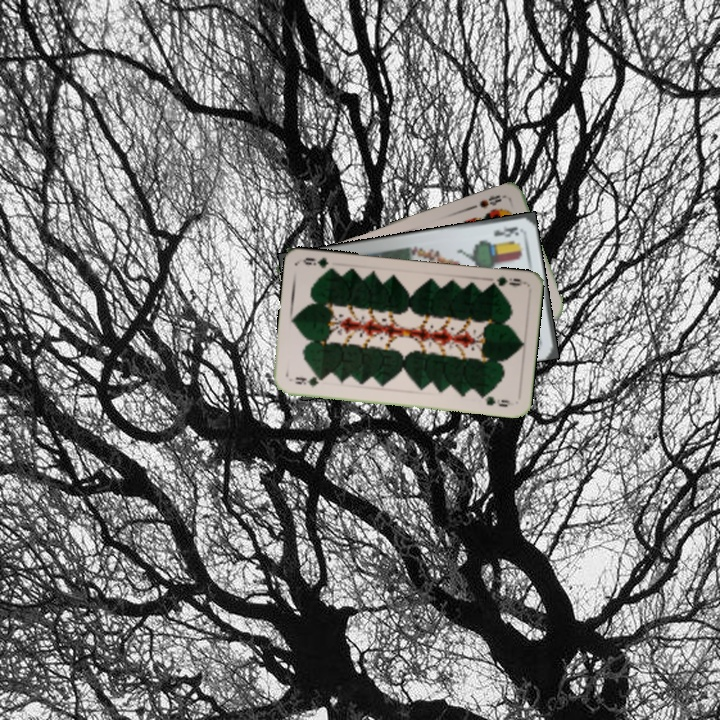EK: (490, 223, 521, 240)
G9: (486, 272, 527, 291), (291, 373, 328, 390)
S8: (476, 190, 509, 211)
